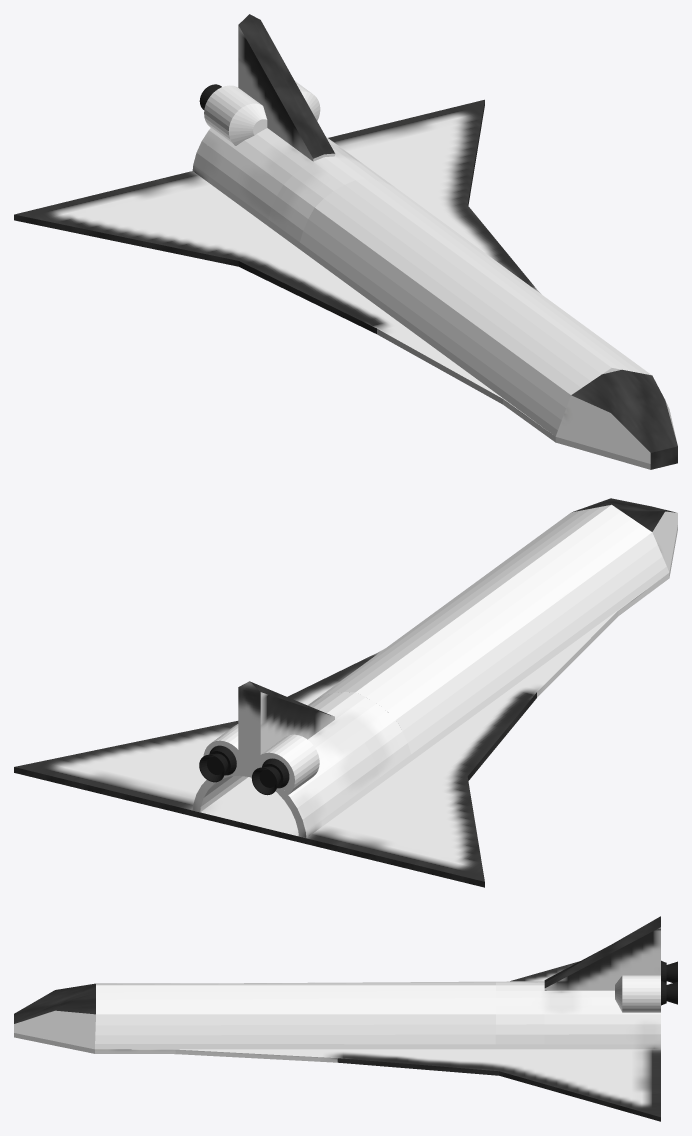
File: POD.glb
3 renders of one model, top to bottom at view 1: azimuth 30°, elevation 25°; view 2: azimuth 150°, elevation 25°; view 3: azimuth 270°, elevation 25°, orthographic. The views are drawn at different scales.
Visible parts, largest first — view 1: Cylinder, Cylinder.001; view 2: Cylinder, Cylinder.001; view 3: Cylinder, Cylinder.001.
Part boxes in pixels (box(x1,y1,x2,y2)): Cylinder: box(14, 99, 677, 469); Cylinder.001: box(199, 14, 394, 218); Cylinder: box(14, 498, 677, 887); Cylinder.001: box(199, 681, 402, 809); Cylinder: box(14, 961, 660, 1121); Cylinder.001: box(496, 916, 677, 1024).
Size of the model in its own units: 7.88 by 2.38 by 12.34.
3 materials, 3 textured.
